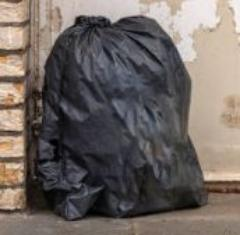plastic: (34, 13, 207, 221)
